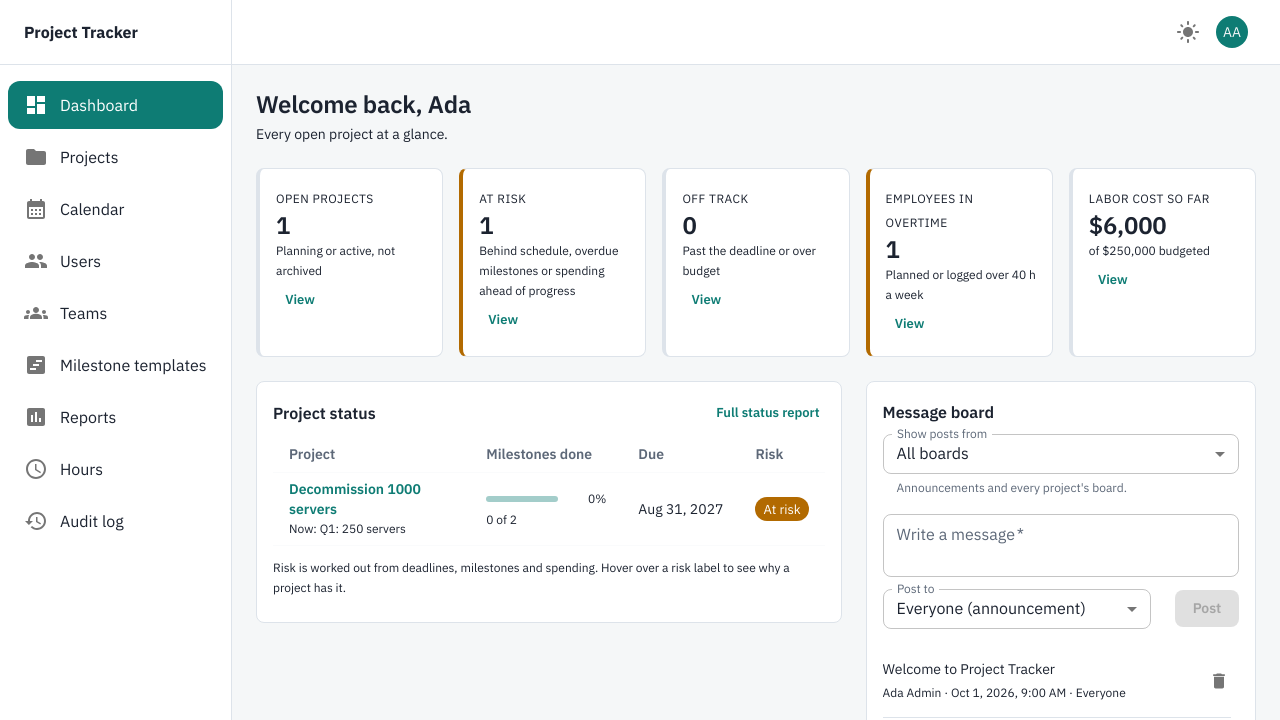
it: message board › keeps the confirm dialog open with the error when deleting fails
Click the button named "Delete message". click: (1219, 680)
box: [1204,666,1234,696]
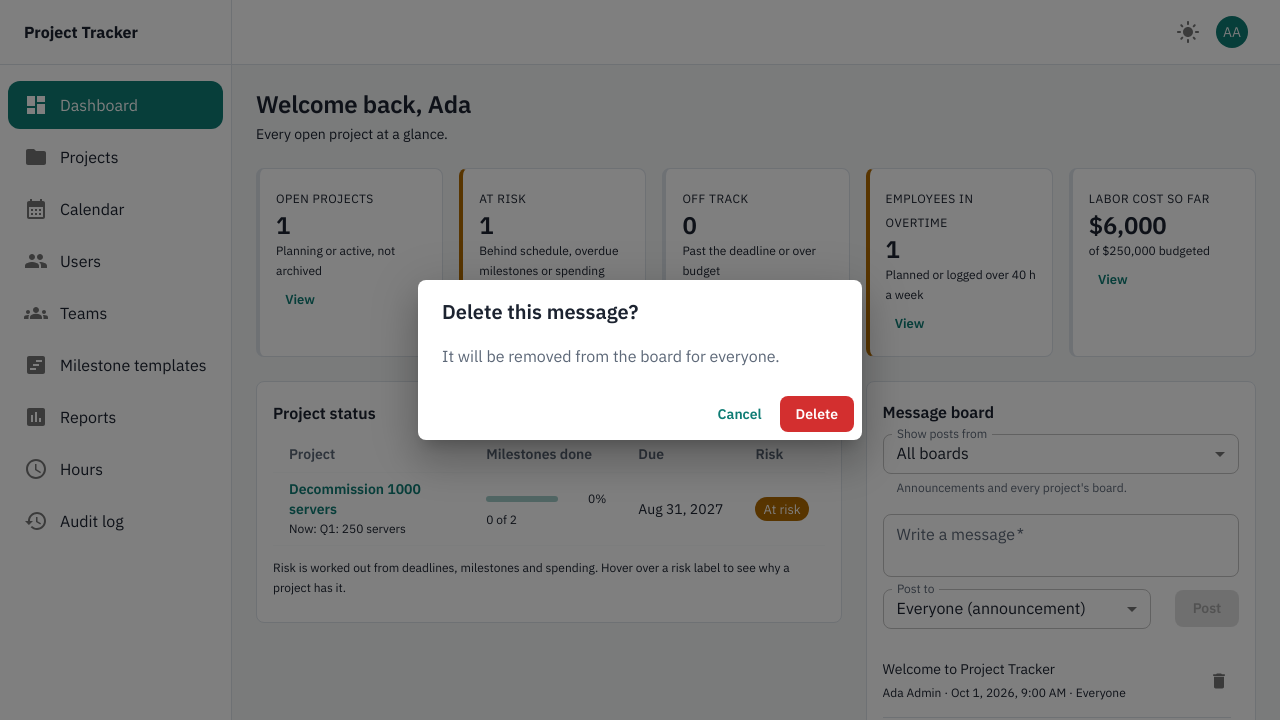
Click the button "Delete". click: (817, 414)
box: [780,396,854,432]
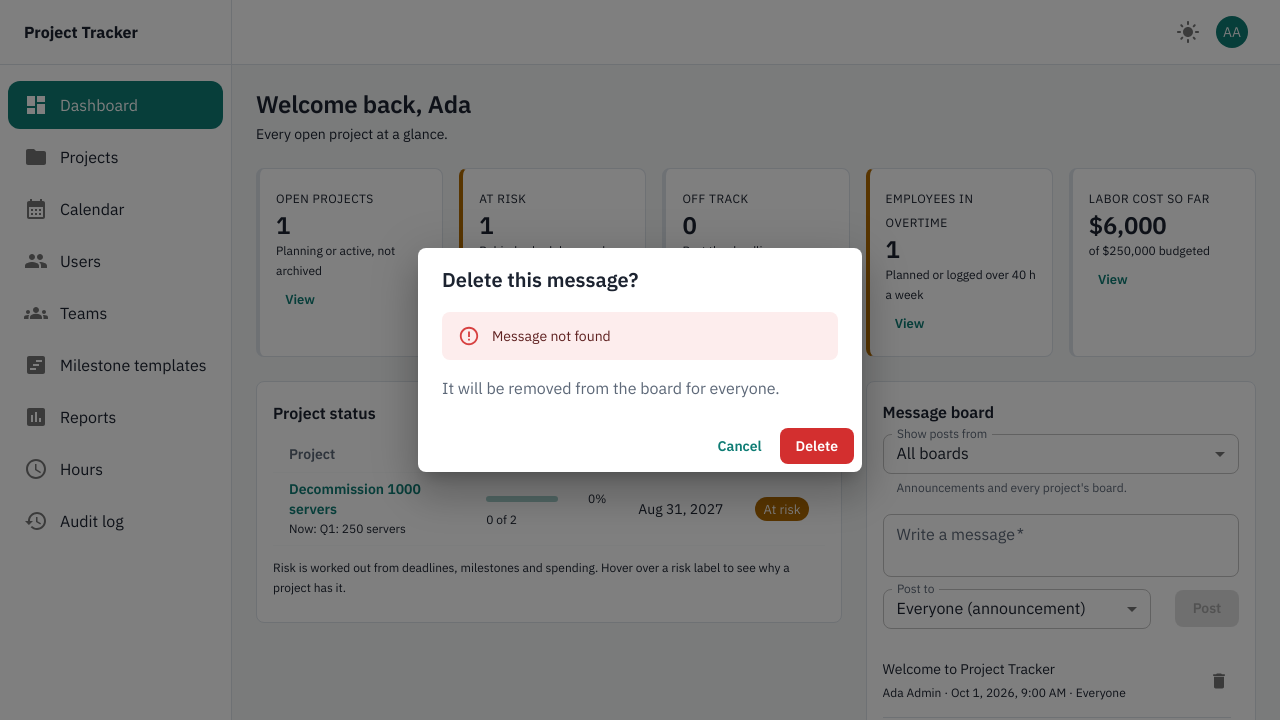
Expected: the dialog is shown, [418,248,862,472]
Expected: the text "Message not found" is shown, [492,327,611,345]
